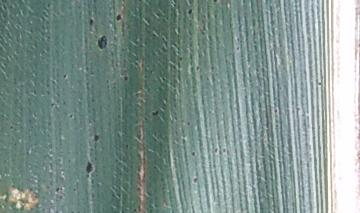tarspot: (96, 34, 109, 51), (85, 160, 94, 175), (114, 13, 123, 23), (150, 109, 160, 117), (186, 8, 194, 17), (92, 133, 100, 142), (62, 71, 69, 81), (67, 112, 75, 120), (7, 123, 15, 131), (191, 175, 198, 184), (49, 101, 56, 110), (88, 17, 94, 27), (178, 55, 185, 63), (212, 146, 219, 154), (185, 119, 192, 127), (54, 185, 61, 193), (272, 107, 279, 115), (316, 80, 323, 88), (134, 186, 142, 193), (190, 149, 196, 158), (88, 70, 95, 77), (171, 1, 178, 8), (195, 64, 201, 72), (124, 142, 130, 150), (235, 44, 241, 52), (123, 74, 128, 83), (46, 2, 52, 9), (132, 207, 138, 213), (210, 1, 218, 3)
